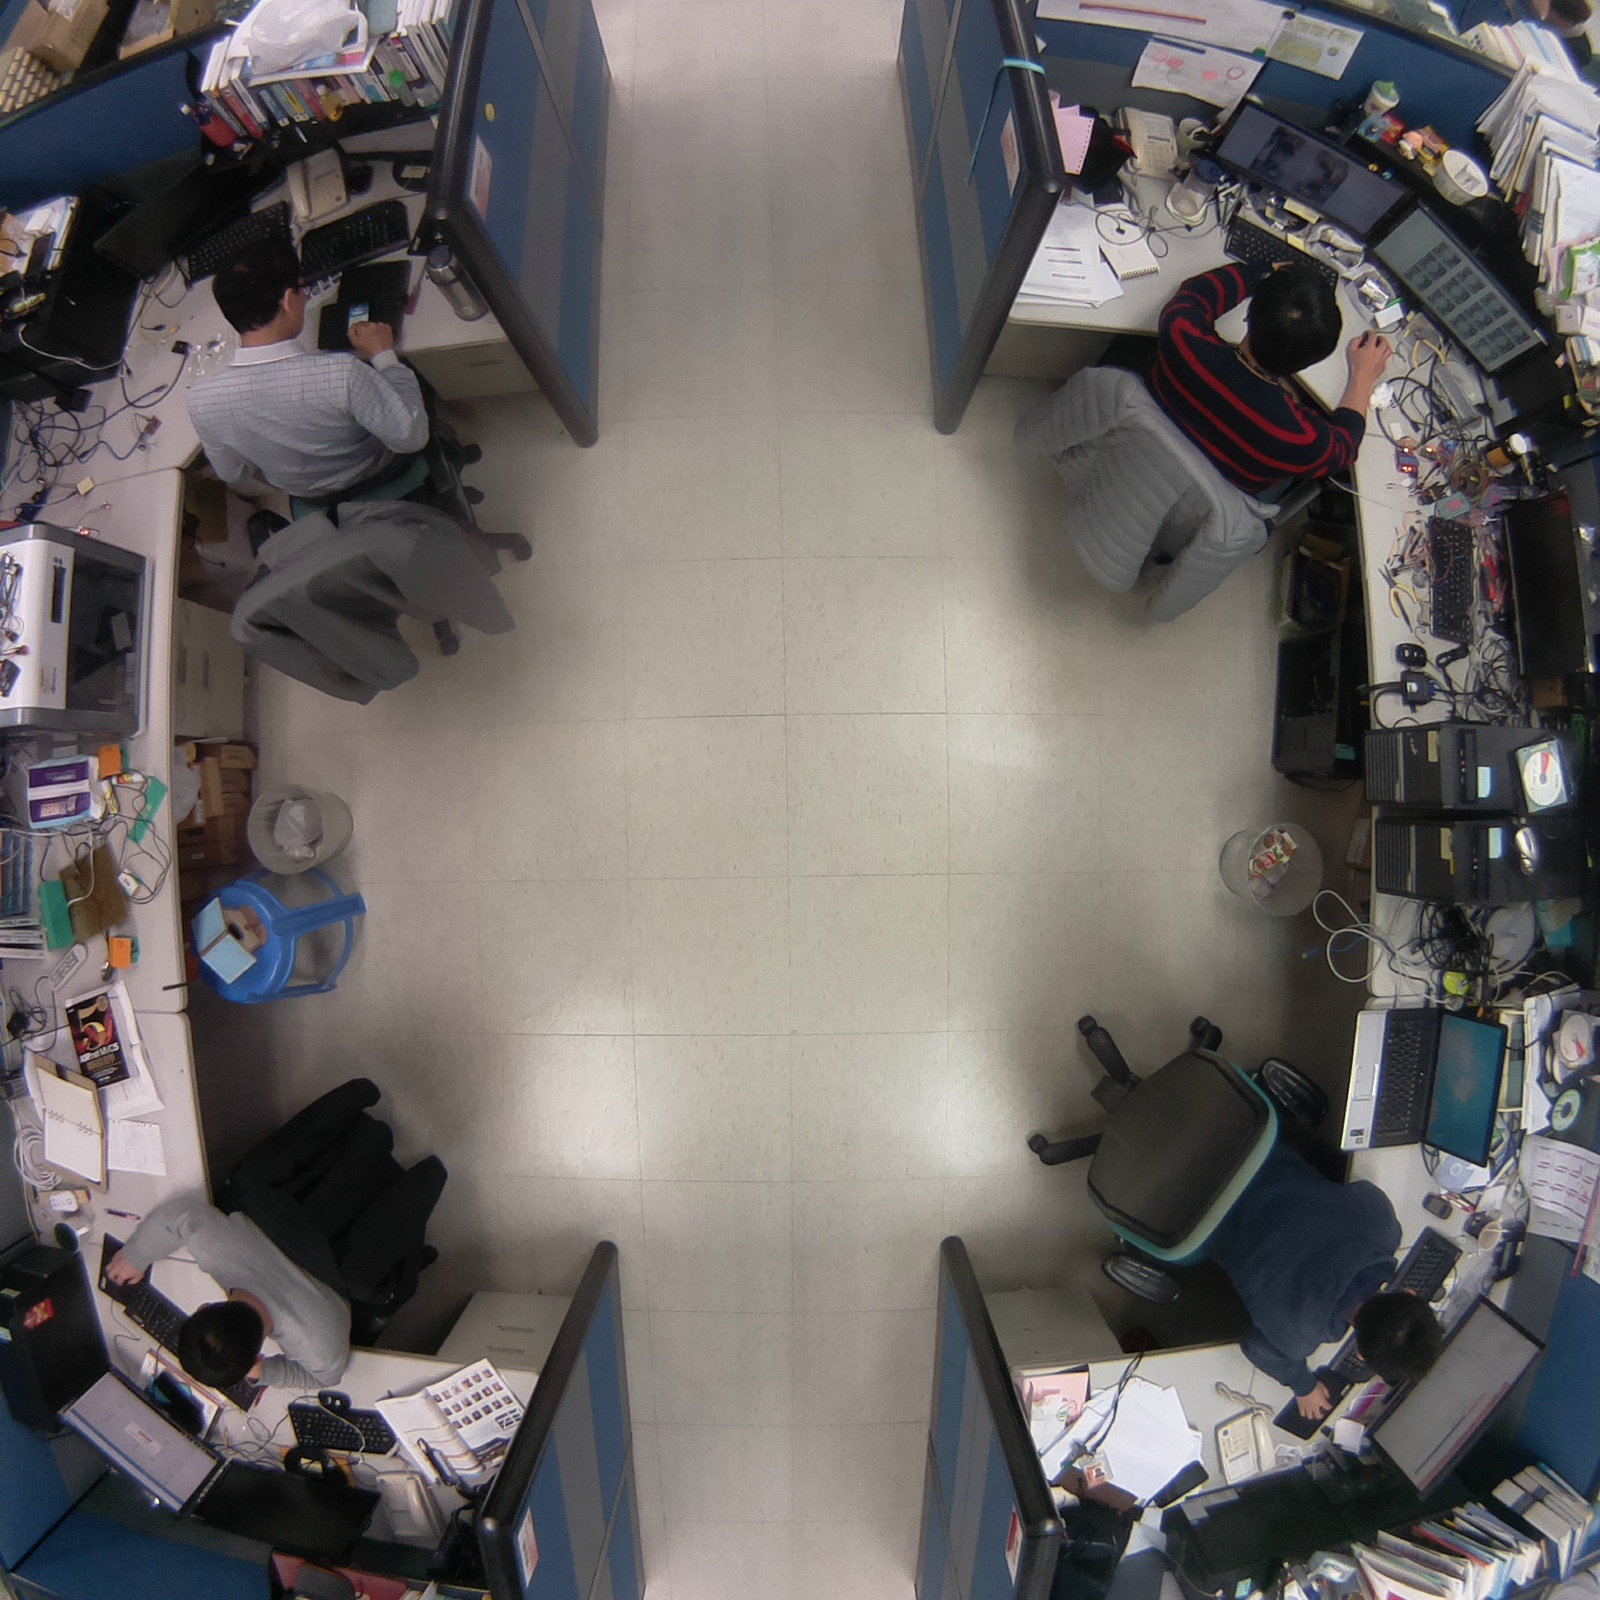head: (208, 227, 310, 351), (1240, 261, 1346, 374), (1351, 1280, 1444, 1393), (168, 1300, 268, 1395)
sitting: (1012, 978, 1450, 1440), (181, 211, 542, 722), (1009, 255, 1401, 629), (99, 1052, 465, 1411)
